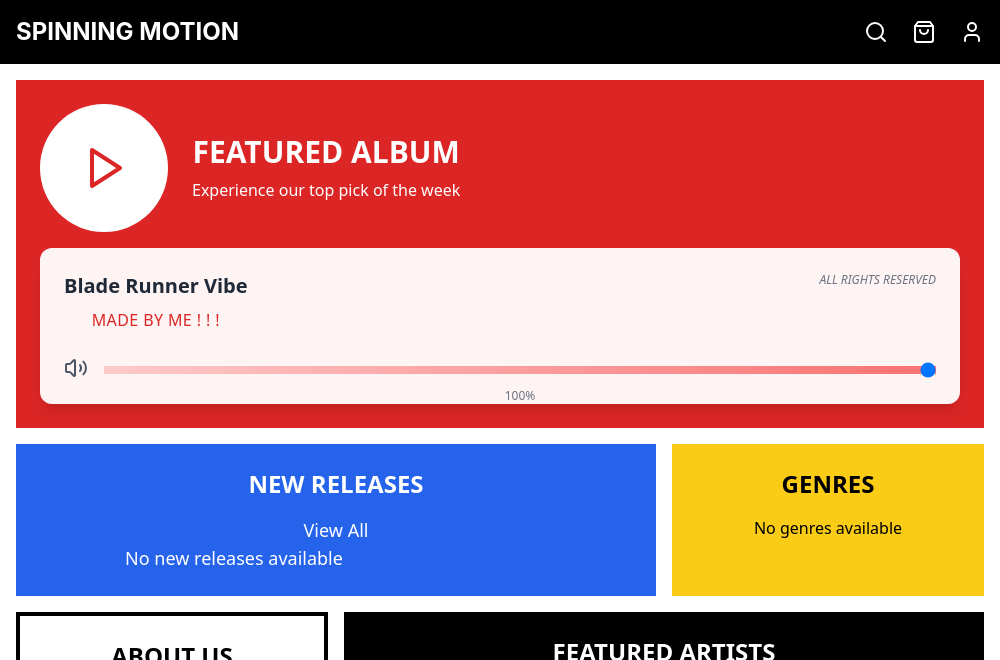
Authentication › Modal Behavior › should open auth modal when clicking user icon
More specific selector and checking visibility
Click the 2nd button at (972, 32), box [960,20,984,44]
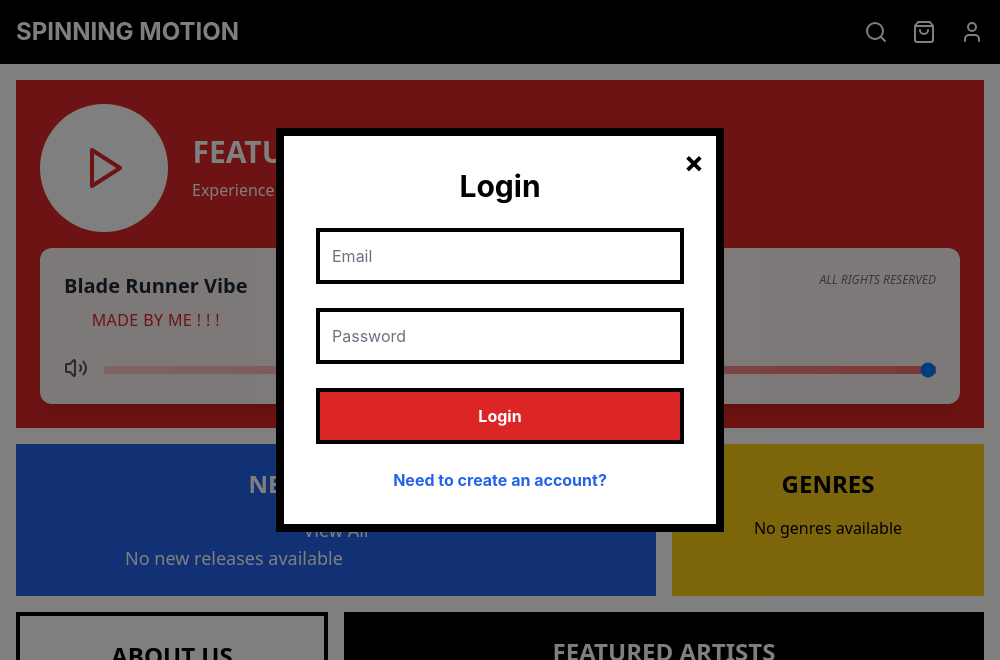
Expected: the element with class "inset-0" is shown
Expected: the element showing "× Login Login Need to create an account?" is shown, [276,128,724,532]
Expected: the heading "Login" is shown, [459,168,540,204]
